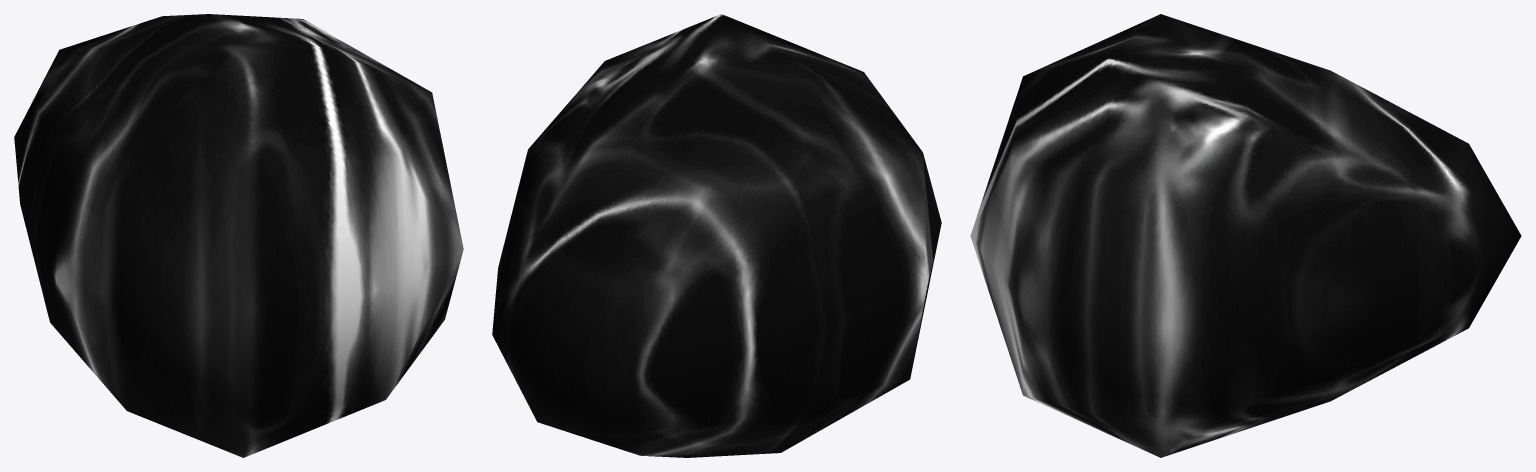
File: 0303_guladuo_stone01.glb
3 views of the same model, side by side, from view 1: azimuth 30°, elevation 25°; view 2: azimuth 150°, elevation 25°; view 3: azimuth 270°, elevation 25° (orthographic).
Size of the model in its own units: 1.77 by 1.71 by 2.2.
Materials: 1 (1 with a texture image).
